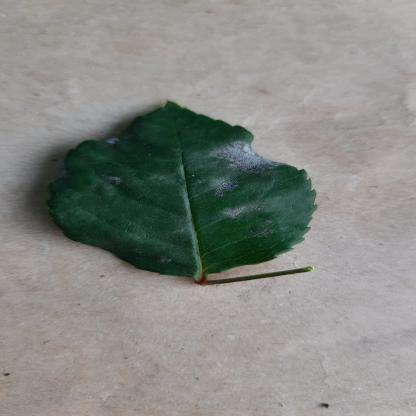powdery-mildew: (31, 100, 330, 276)
